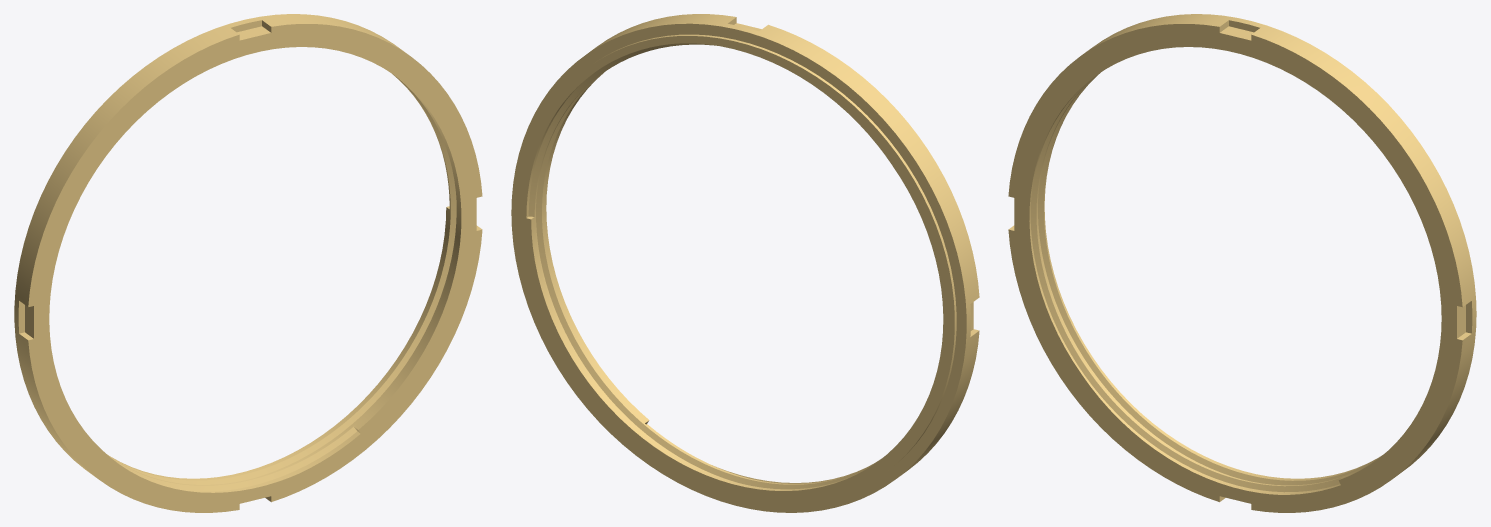
Rendered from Inner_Race_Nut.glb.
The picture shows the model from 3 angles, left to right: view 1: azimuth 30°, elevation 25°; view 2: azimuth 150°, elevation 25°; view 3: azimuth 330°, elevation 25°; orthographic projection.
Visible parts, largest first — view 1: Inner_Race_Nut_0; view 2: Inner_Race_Nut_0; view 3: Inner_Race_Nut_0.
Boxes of the visible parts, x1,y1,x2,y2 form: Inner_Race_Nut_0: [14, 14, 482, 512]; Inner_Race_Nut_0: [511, 14, 979, 512]; Inner_Race_Nut_0: [1008, 14, 1476, 512].
Bounding box in the file's own units: 43.19 × 43.19 × 2.5.
